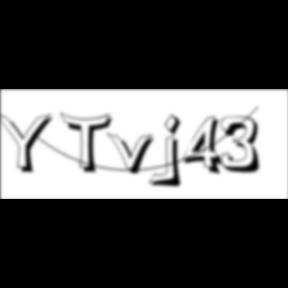3: (221, 116, 267, 176)
4: (182, 115, 230, 179)
T: (60, 112, 118, 176)
Y: (1, 110, 60, 176)
j: (162, 113, 188, 191)
v: (107, 131, 161, 177)
